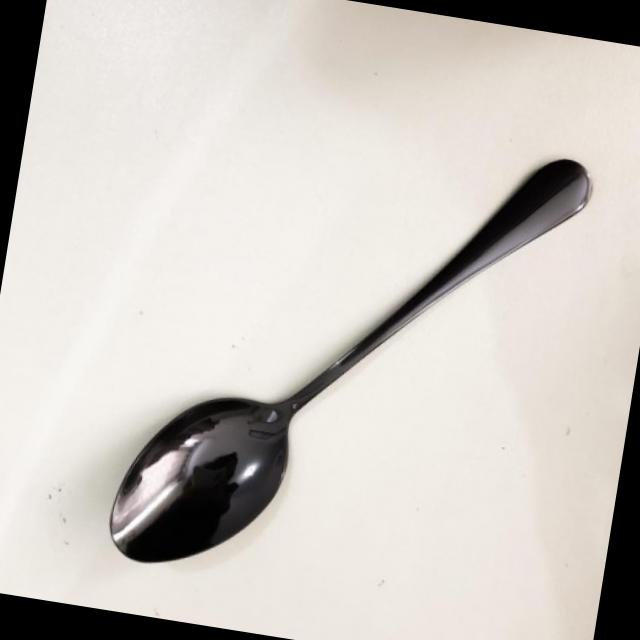spoon: (93, 65, 606, 629)
